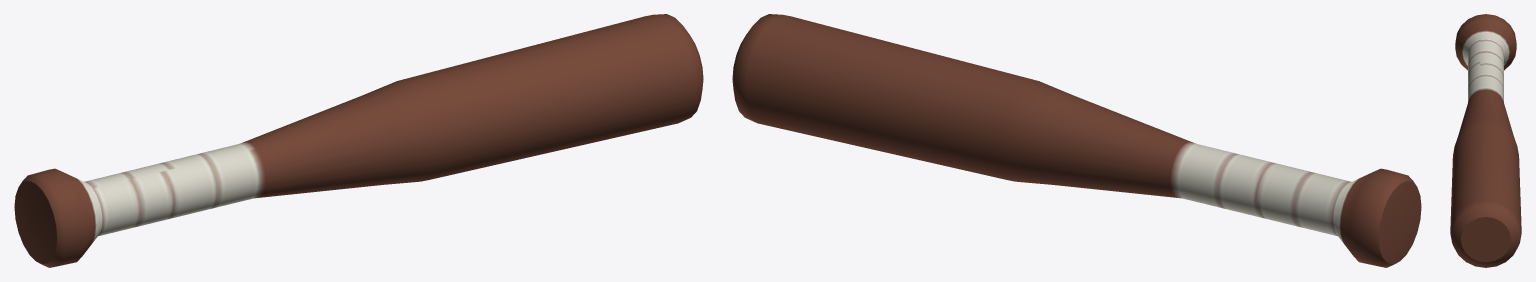
The model's file is bat.obj.
3 renders of one model, left to right at view 1: azimuth 30°, elevation 25°; view 2: azimuth 150°, elevation 25°; view 3: azimuth 270°, elevation 25°, orthographic. The views are drawn at different scales.
Visible parts, largest first — view 1: pCylinder1; view 2: pCylinder1; view 3: pCylinder1.
Boxes of the visible parts, x1=… form: pCylinder1: x1=14, y1=14, x2=703, y2=267; pCylinder1: x1=732, y1=14, x2=1421, y2=267; pCylinder1: x1=1450, y1=14, x2=1521, y2=267.
Size of the model in its own units: 5.29 by 0.7954 by 0.7954.
